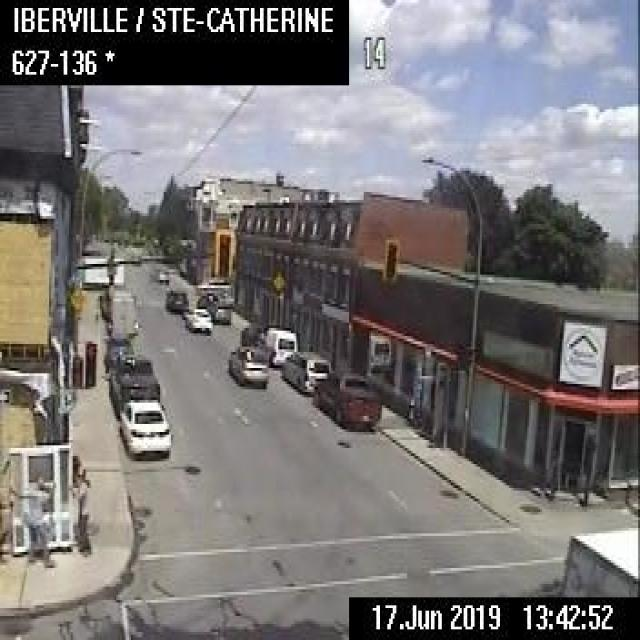pedestrian: (24, 474, 54, 568), (67, 459, 93, 557), (0, 458, 13, 570)
vehicle: (560, 520, 638, 595), (311, 367, 379, 424), (107, 352, 159, 418), (118, 397, 169, 455), (280, 349, 331, 392), (227, 344, 267, 386), (106, 286, 136, 336), (264, 325, 296, 365), (103, 332, 132, 372), (194, 290, 229, 322), (184, 306, 211, 331), (238, 320, 264, 345), (163, 286, 187, 311), (196, 274, 230, 291)
